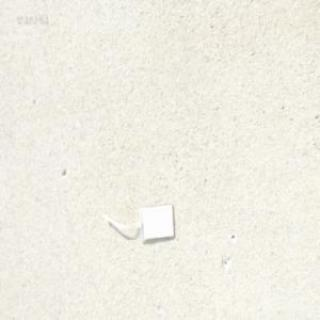LuggageTagtrack_idkeyframe: (101, 199, 177, 244)
